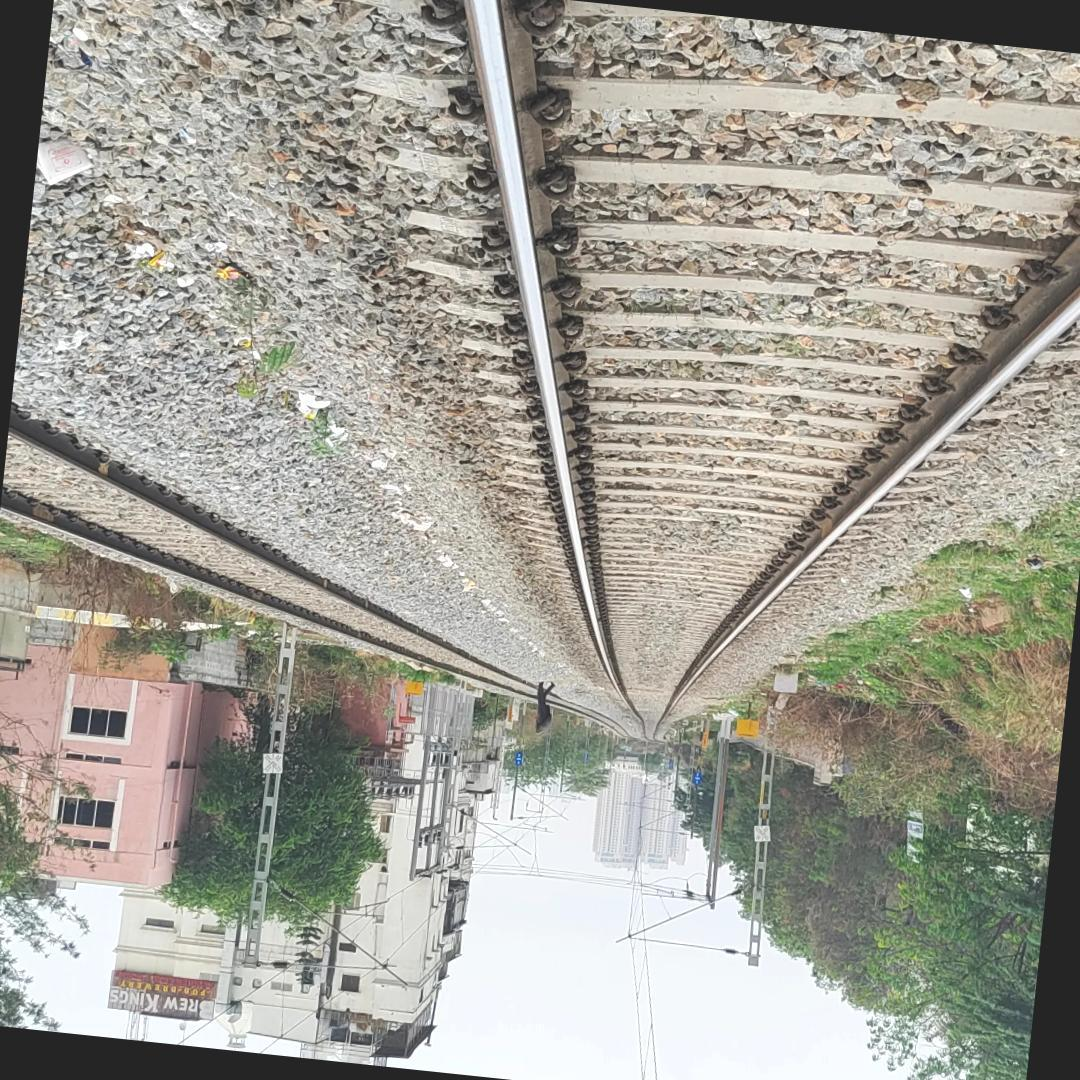standing: (532, 677, 559, 736)
track: (396, 0, 1080, 748)
